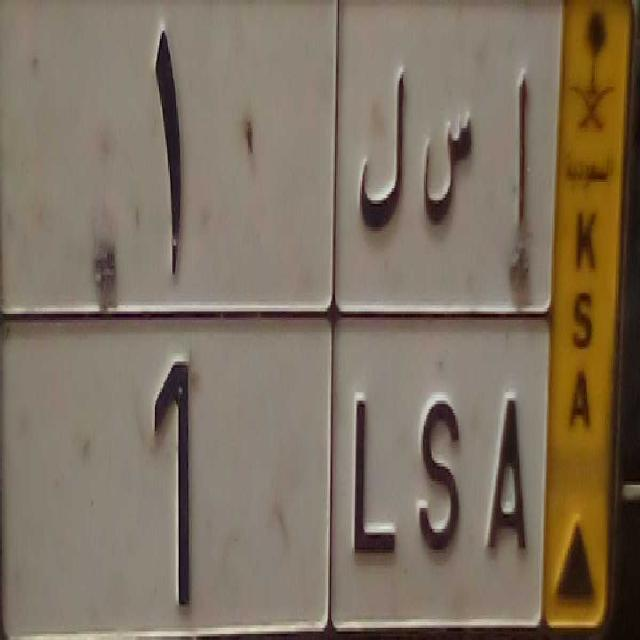license_plate: (14, 313, 546, 640)
